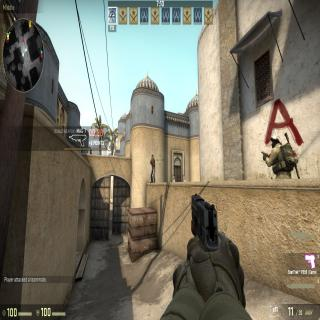CT-Body: (268, 133, 296, 180)
CT-Head: (270, 133, 282, 150)
T-Body: (150, 154, 155, 182)
T-Head: (151, 154, 154, 160)
